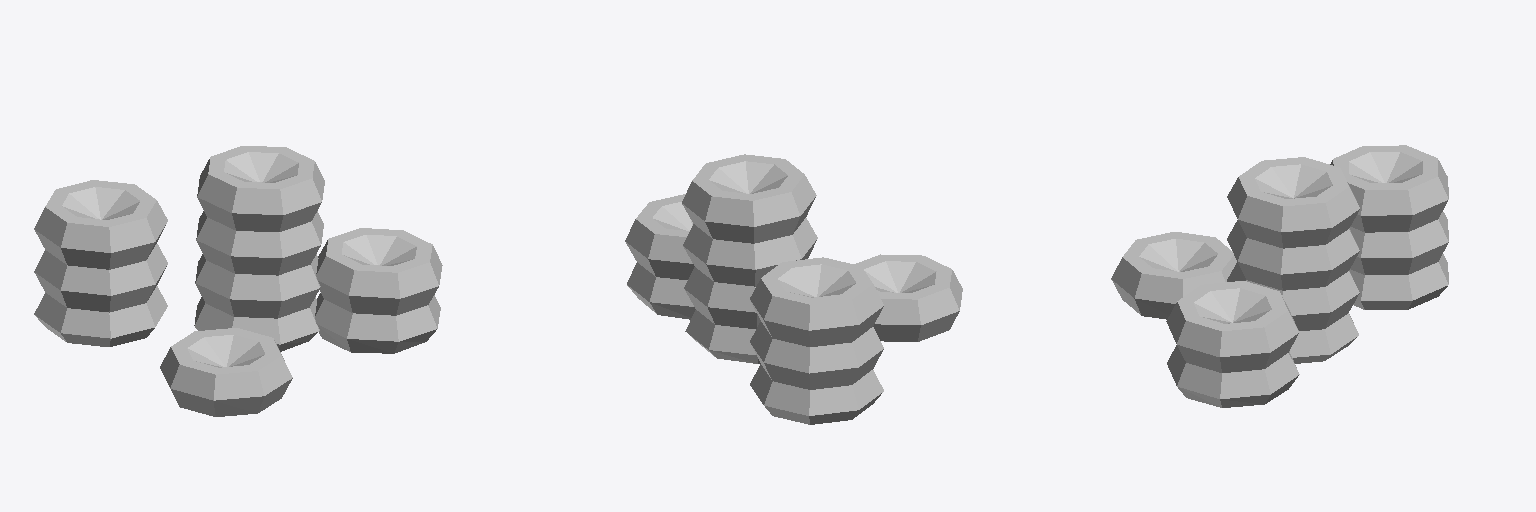
Rendered from coin_stack_small.obj.
The picture shows the model from 3 angles: view 1: azimuth 30°, elevation 25°; view 2: azimuth 150°, elevation 25°; view 3: azimuth 270°, elevation 25°; orthographic projection.
Visible parts, largest first — view 1: coin_stack_small_Cube.019; view 2: coin_stack_small_Cube.019; view 3: coin_stack_small_Cube.019.
Part boxes in pixels (left/top/right/bottom): coin_stack_small_Cube.019: left=34, top=146, right=442, bottom=416; coin_stack_small_Cube.019: left=625, top=154, right=962, bottom=424; coin_stack_small_Cube.019: left=1111, top=145, right=1448, bottom=407.
Bounding box in the file's own units: 0.9591 × 0.4782 × 0.8963.